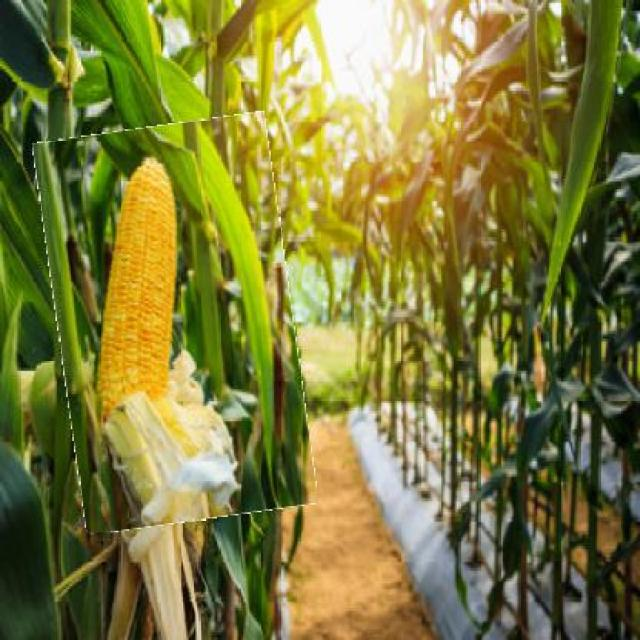Corn: (46, 119, 305, 526)
